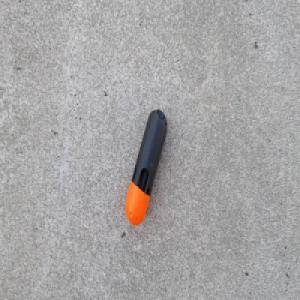PlasticPart: (124, 109, 167, 227)
